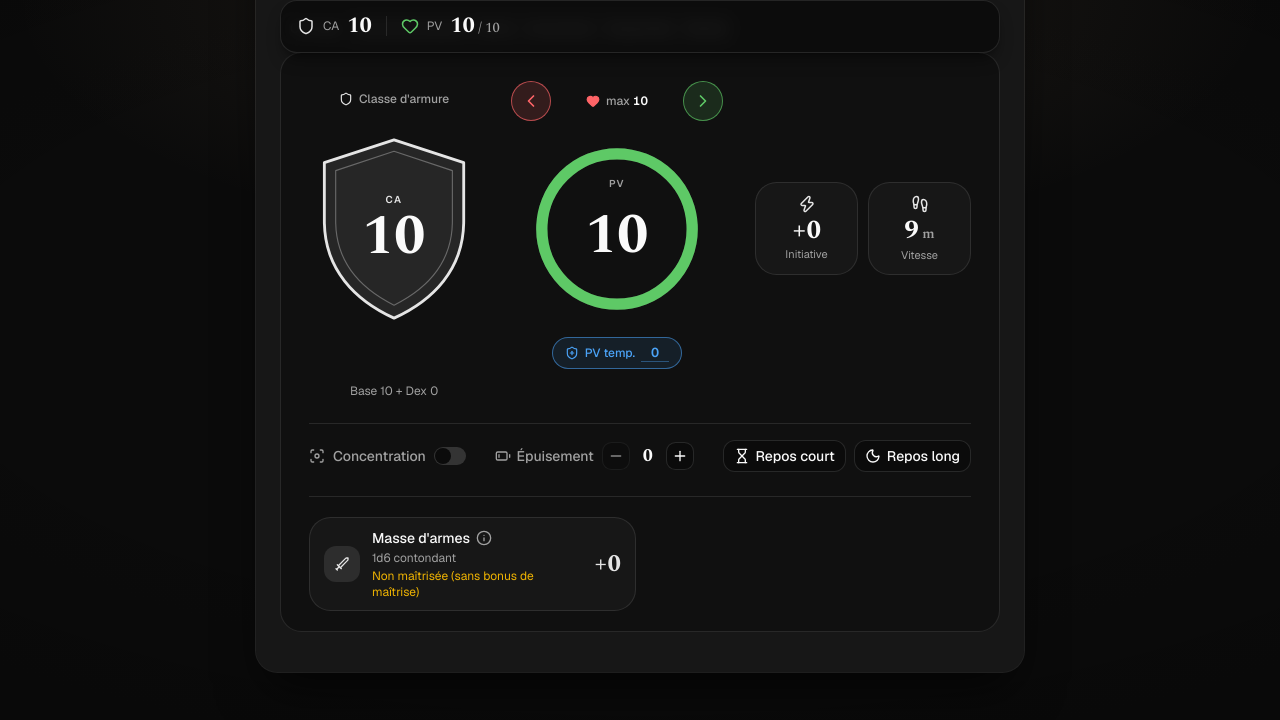
it: PlayDetailSheet (via CharacterPlay) › opens a weapon attack with its computed values and item description
This screenshot has width=1280, height=720.
(page scrolled)
Click the button named "Détails : Masse d'armes" at point(472, 564), box [310, 518, 635, 610]
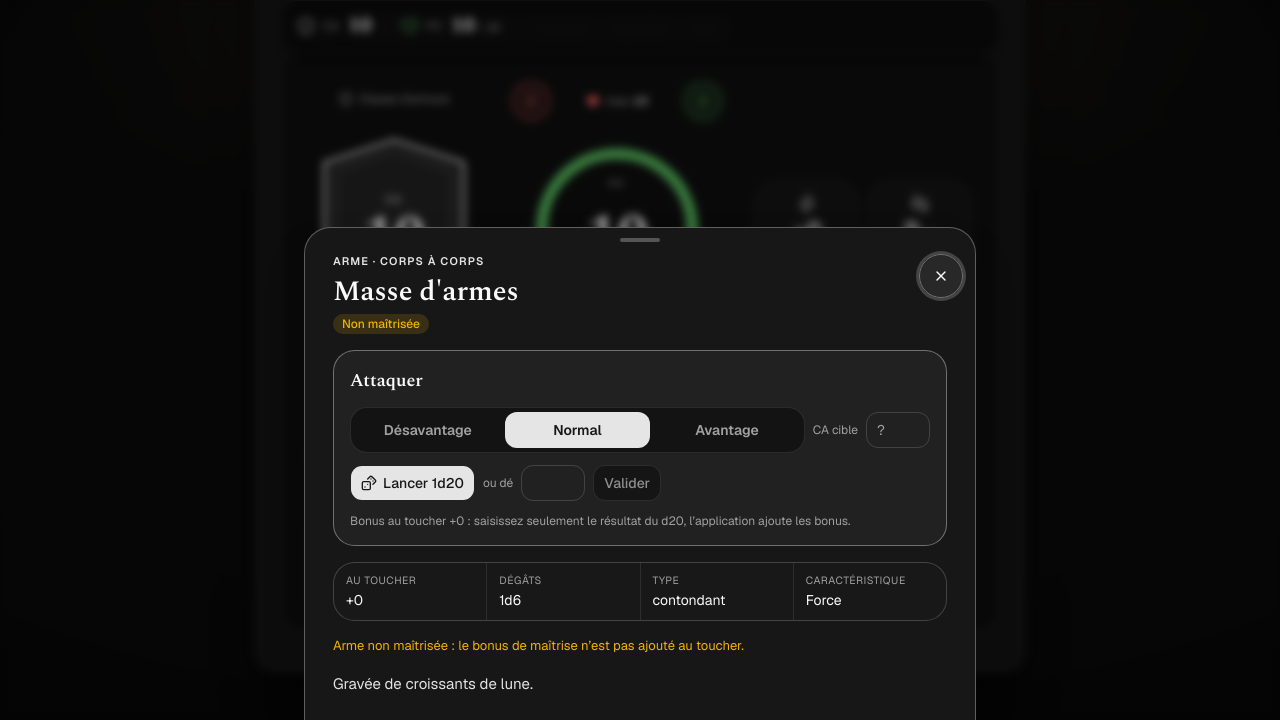
Now the text "Arme · Corps à corps" is shown, box [333, 254, 484, 268]
Now the text "contondant" is shown, box [652, 591, 726, 609]
Now the text "Force" is shown, box [806, 591, 842, 609]
